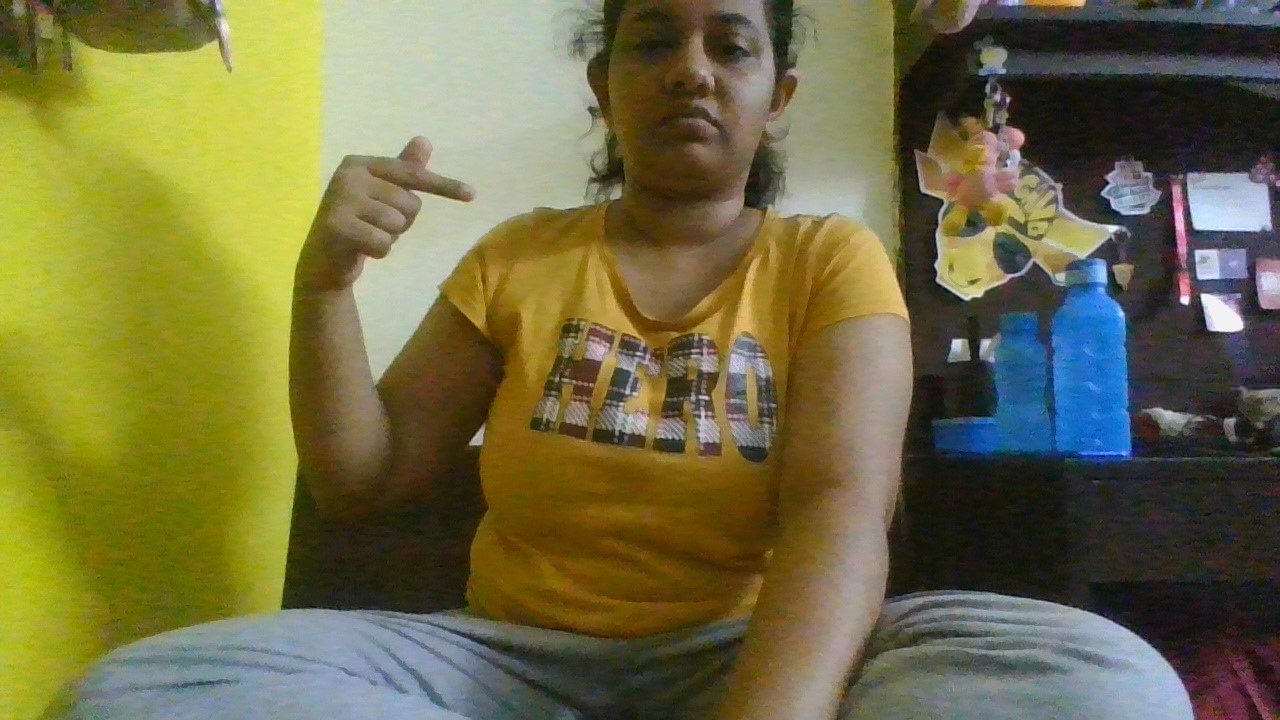g: (277, 135, 493, 304)
